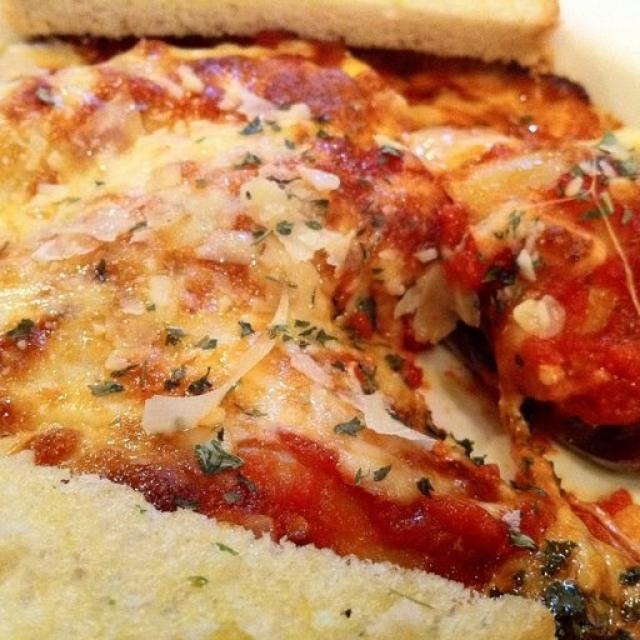Lasagna: (34, 46, 619, 526)
